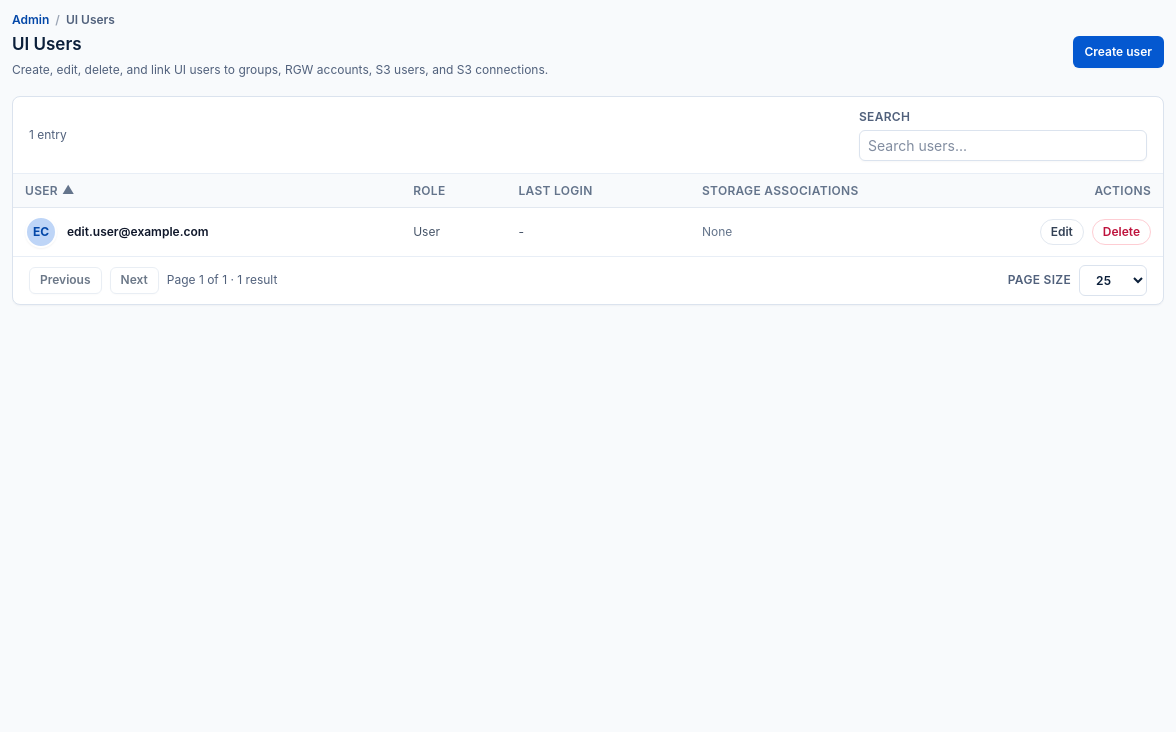
Test: UsersPage modal tabs › keeps role access note hidden by default in edit modal and shows it on info icon click
The width and height of the screenshot is (1176, 732).
Click the button "Edit". click: (1062, 232)
box: [1040, 219, 1084, 245]
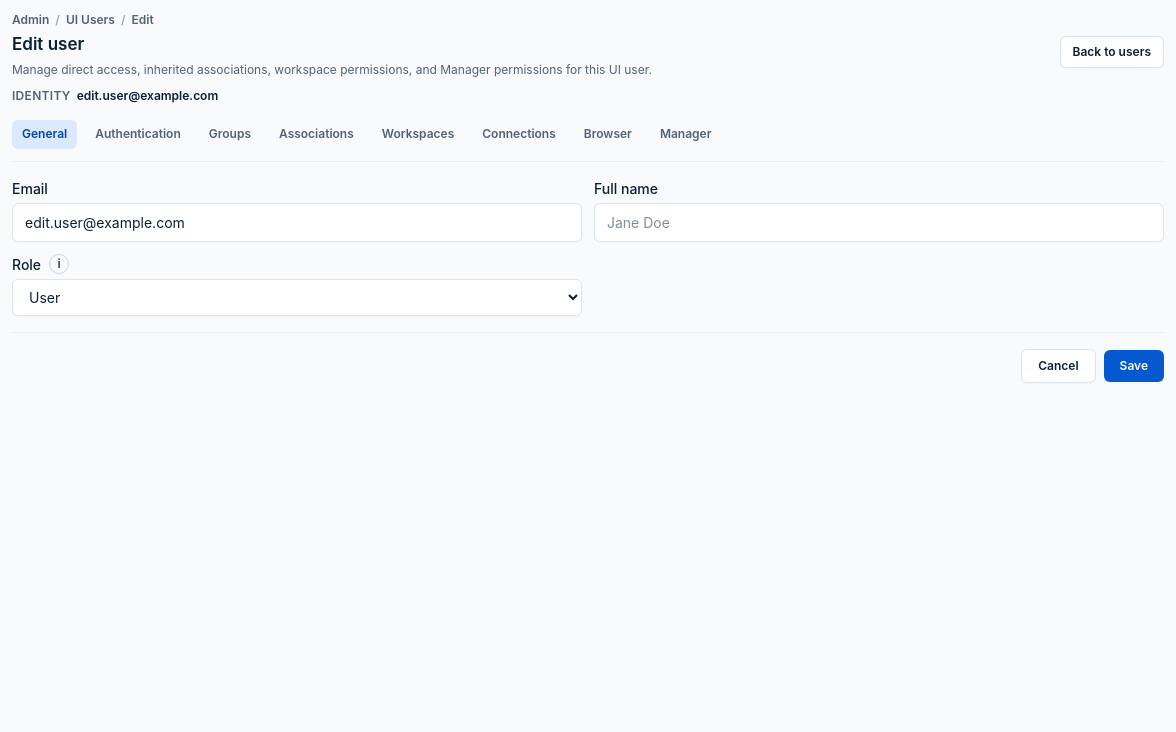
Expected: the text "Role access summary" is not shown
Click the button named "Explain role access levels". click: (59, 264)
box: [49, 254, 69, 274]
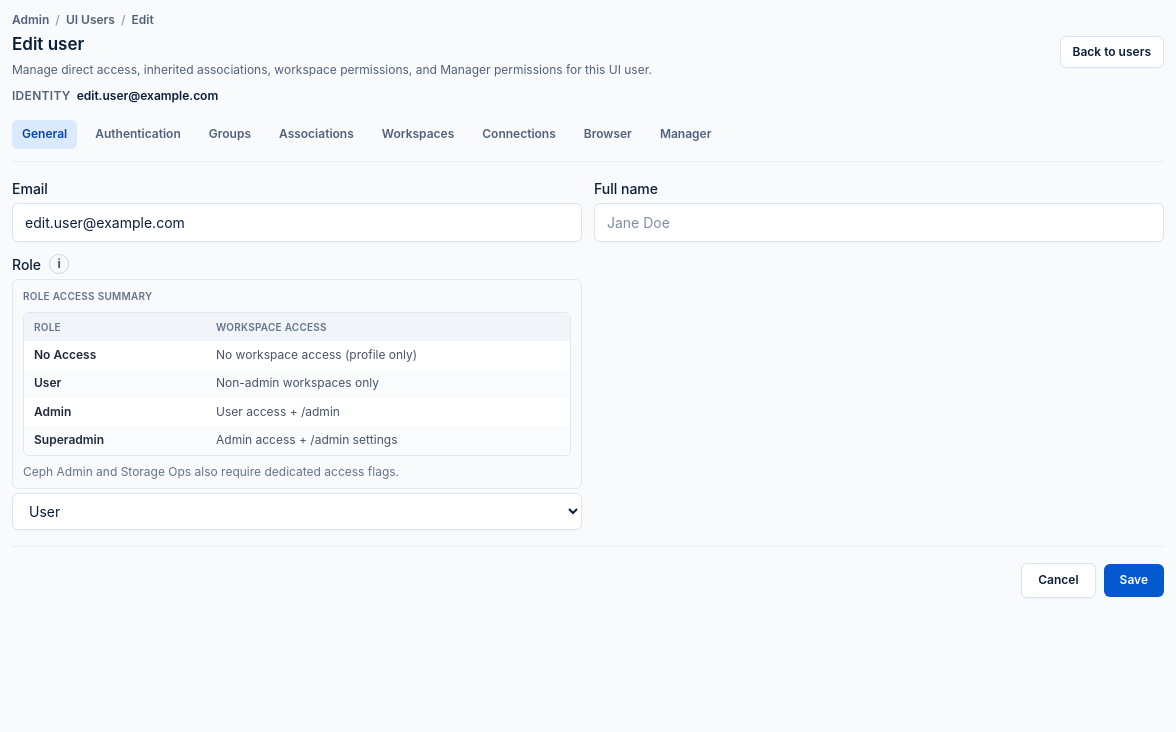
Expected: the text "Role access summary" is shown, [23, 290, 152, 302]
Expected: the column heading "Workspace access" is shown, [206, 312, 570, 340]
Expected: the text "No workspace access (profile only)" is shown, [206, 340, 570, 369]
